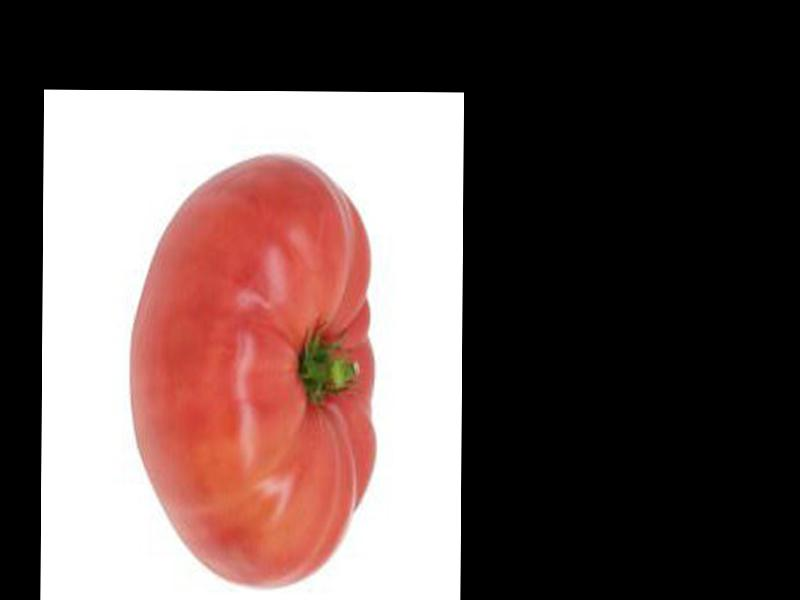Tomato: (130, 155, 372, 589)
